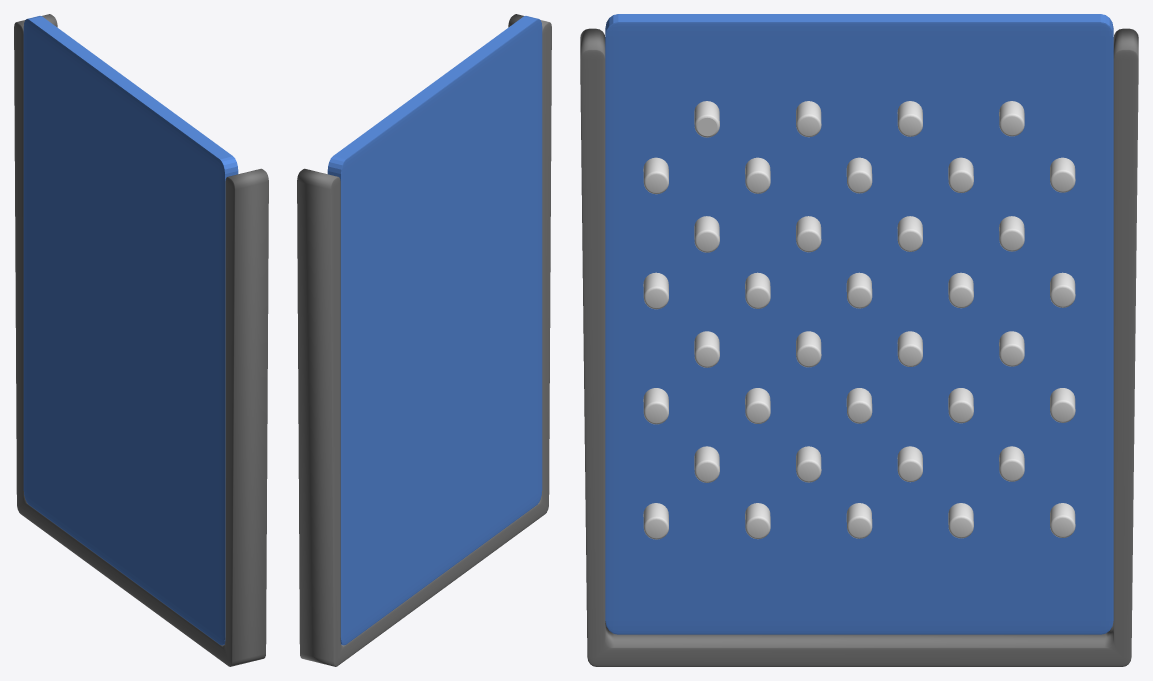
Rendered from FBX_Board_01.fbx.
3 views of the same model, side by side, from view 1: azimuth 30°, elevation 25°; view 2: azimuth 150°, elevation 25°; view 3: azimuth 270°, elevation 25° (orthographic). The views are drawn at different scales.
Parts seen in each view (by area): view 1: FBX_Board, FBX_Board_Boarder; view 2: FBX_Board, FBX_Board_Boarder; view 3: FBX_Board, FBX_Board_Boarder, FBX_Pin_10, FBX_Pin_05, FBX_Pin_01, FBX_Pin_19, FBX_Pin_28, FBX_Pin_23, FBX_Pin_14, FBX_Pin_32, FBX_Pin_20, FBX_Pin_29 (+20 smaller).
Boxes of the visible parts, box(x1,y1,x2,y2) form: FBX_Board: box(23, 16, 238, 645); FBX_Board_Boarder: box(14, 14, 268, 666); FBX_Board: box(327, 16, 542, 645); FBX_Board_Boarder: box(297, 14, 551, 666); FBX_Board: box(605, 14, 1113, 634); FBX_Board_Boarder: box(580, 28, 1138, 666); FBX_Pin_10: box(694, 216, 719, 252); FBX_Pin_05: box(643, 157, 668, 194); FBX_Pin_01: box(694, 101, 719, 137); FBX_Pin_19: box(694, 331, 719, 367); FBX_Pin_28: box(694, 446, 719, 482); FBX_Pin_23: box(643, 388, 668, 424); FBX_Pin_14: box(643, 272, 668, 309); FBX_Pin_32: box(643, 503, 668, 539); FBX_Pin_20: box(796, 331, 821, 367); FBX_Pin_29: box(796, 446, 821, 482).
Size of the model in its own units: 108 by 1373 by 1100.
